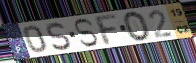0: (23, 25, 49, 54)
2: (147, 9, 175, 40)
F: (91, 14, 119, 47)
O: (122, 11, 152, 42)
S: (73, 17, 100, 48), (46, 21, 72, 51)
